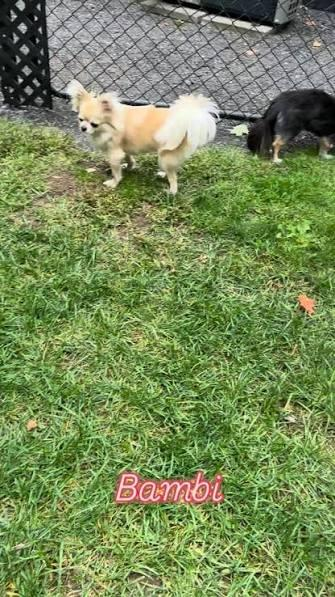adult_dog: (64, 80, 221, 197), (246, 89, 335, 164)
